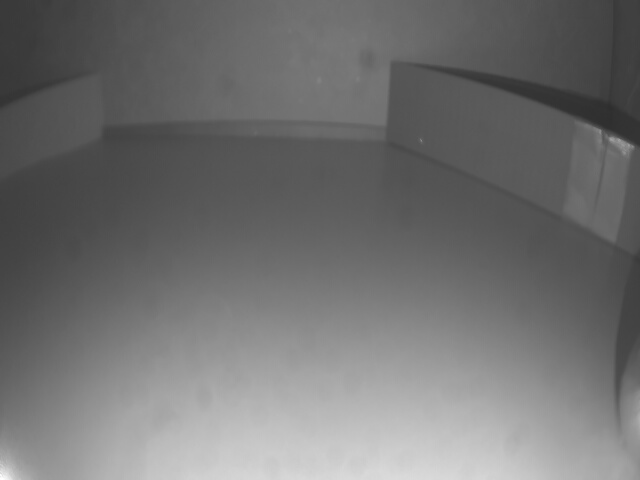Point: (390, 58, 640, 246), (0, 73, 104, 195)
